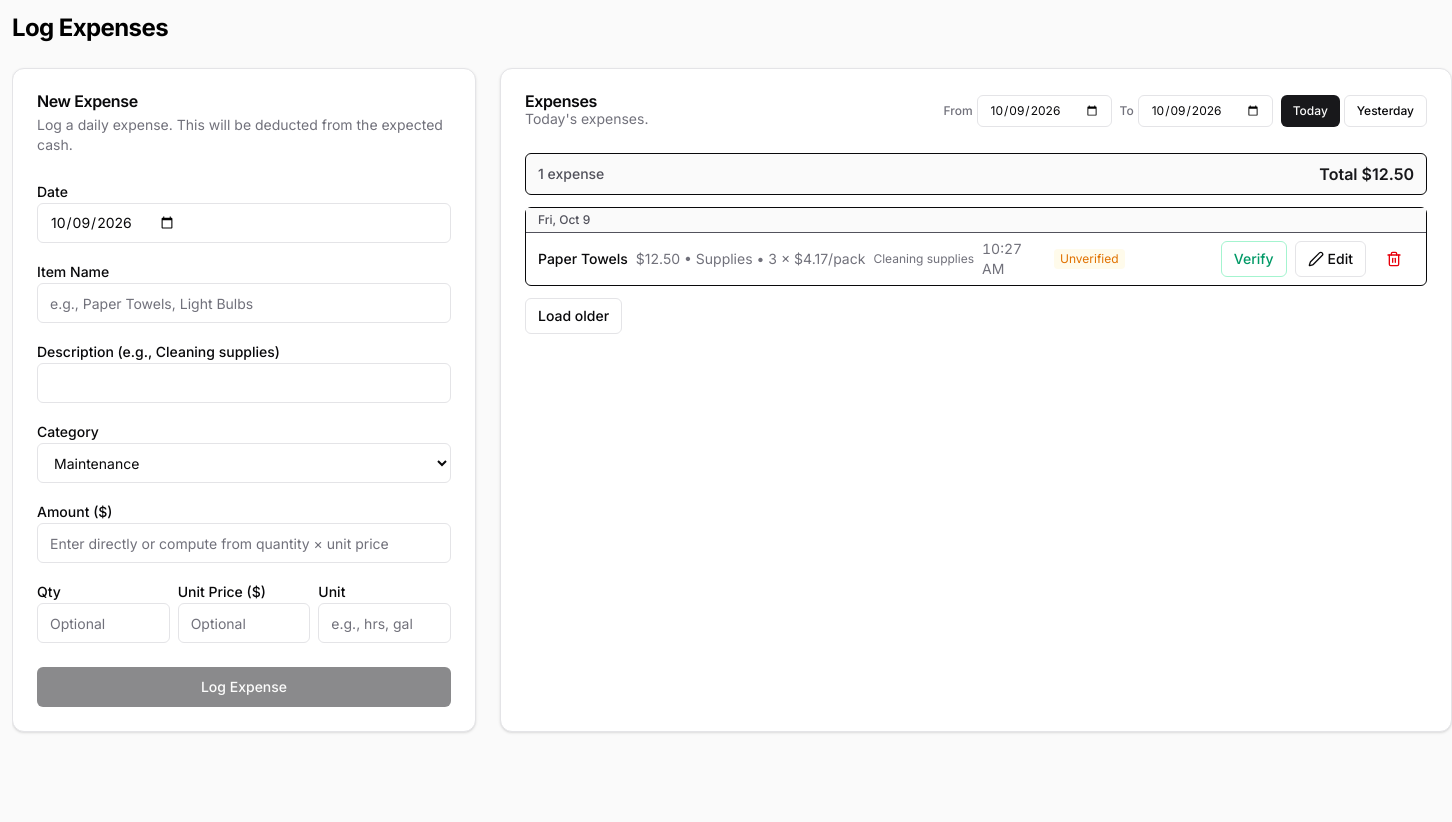
Expenses › TD-032: consumes pagination envelope and appends older pages
What coordinates should you click on to do the following:
click the button "Load older"
I would click on:
 (574, 316)
Its box is [525,298,622,334].
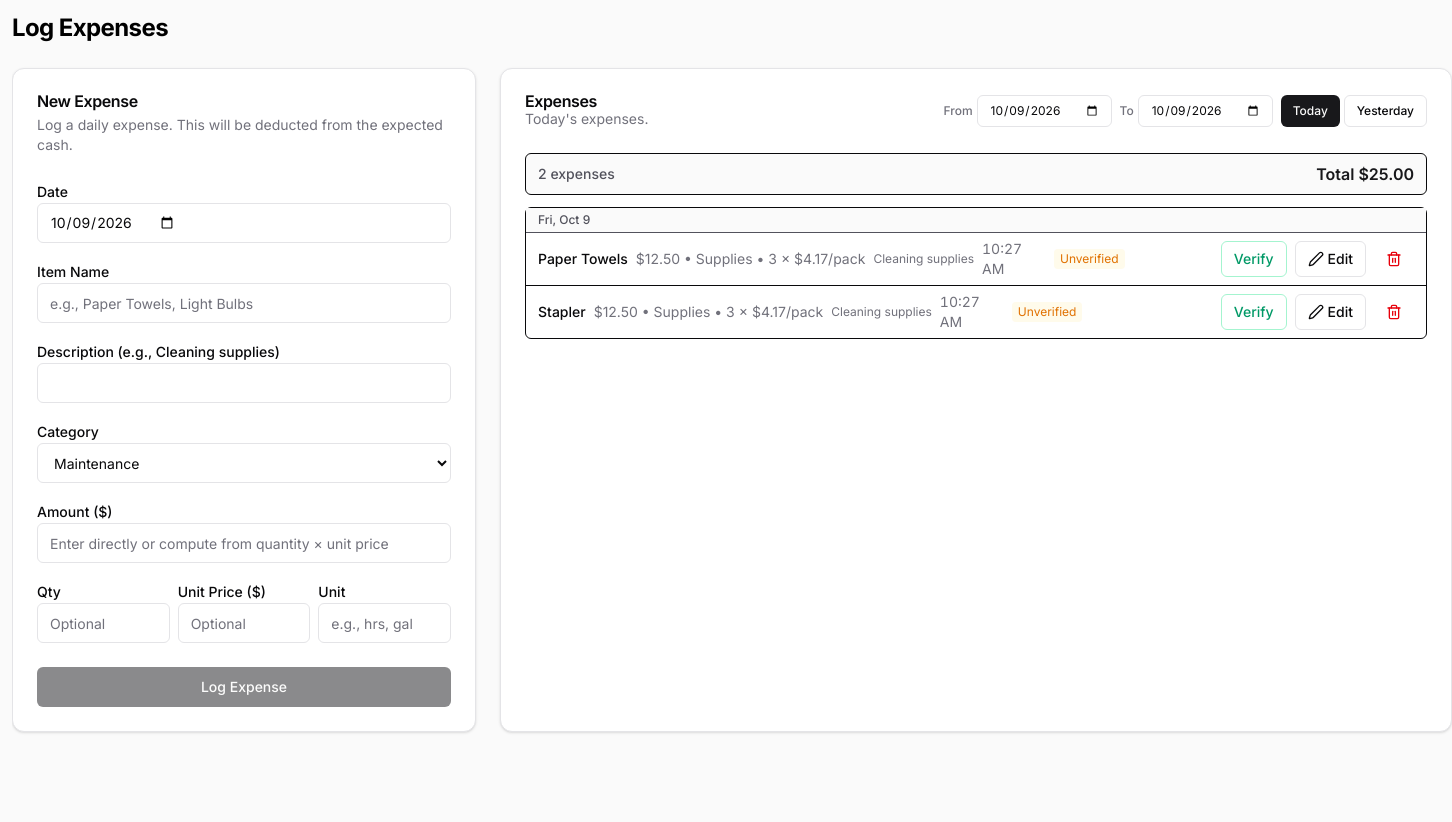
Result: the text "Stapler" is shown at [538,302,586,322]
